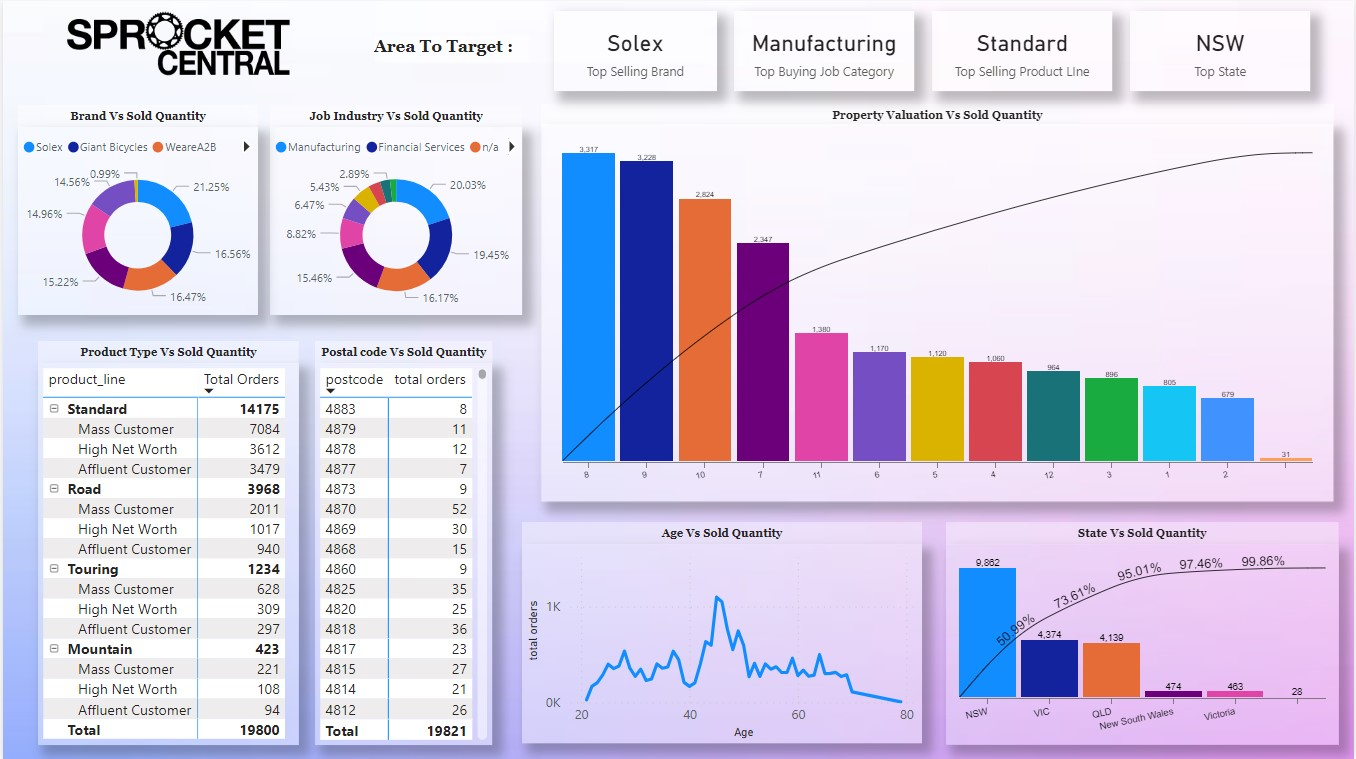

Layout of this report page (visuals, bound fields, positions):
{"tool":"powerbi","page":{"name":"Page 1","canvas":[1280,720],"ordinal":0},"visuals":[{"type":"image","box":[20.9,4.5,296.4,84.5],"z":0},{"type":"paretoEDD8E69761BA4B7BB3AA6D813990D7BF","fields":{"paretoValues":["Measure.total orders"],"paretoCategories":["Customers Address.property_valuation"]},"box":[510,117,750.9,358.2],"z":0,"group":"g1"},{"type":"textbox","box":[510,98,750.9,20.9],"z":1000,"group":"g1"},{"type":"pivotTable","fields":{"Rows":["Transections.product_line","Customers Demographic.wealth_segment"],"Values":["Measure.Product Line Count"]},"box":[32.7,342.7,247.3,361.8],"z":1000},{"type":"donutChart","fields":{"Category":["Transections.brand"],"Y":["Measure.total orders"]},"box":[14.2,118.9,227,178.2],"z":2000},{"type":"pivotTable","fields":{"Rows":["Customers Address.postcode"],"Values":["Measure.total orders"]},"box":[295.5,342.7,168.2,361.8],"z":3000},{"type":"lineChart","fields":{"Y":["Measure.total orders"],"Category":["Customers Demographic.Age"]},"box":[491.8,514.5,379.1,189.1],"z":4000},{"type":"donutChart","fields":{"Y":["Measure.total orders"],"Category":["Customers Demographic.job_industry_category"]},"box":[252.7,118.9,239.4,178.2],"z":5000},{"type":"paretoEDD8E69761BA4B7BB3AA6D813990D7BF","fields":{"paretoValues":["Measure.total orders"],"paretoCategories":["Customers Address.state"]},"box":[893.8,514.3,371.5,189.8],"z":6000},{"type":"textbox","box":[32.7,321.8,247.3,20.9],"z":7000},{"type":"textbox","box":[295.5,321.8,168.2,20.9],"z":8000},{"type":"textbox","box":[14.5,98.2,227.3,20.9],"z":9000},{"type":"textbox","box":[252.7,98.2,239.1,20.9],"z":10000},{"type":"textbox","box":[491.8,493.6,379.1,20.9],"z":11000},{"type":"textbox","box":[893.6,493.6,371.8,20.9],"z":12000},{"type":"group","id":"g1","title":"Group 1","box":[510,98,750.9,377.2],"z":13000},{"type":"textbox","box":[351.8,32.7,148.2,24.5],"z":14000},{"type":"card","fields":{"Values":["Min(Transections.brand)"]},"box":[521.8,9.1,153.6,76.4],"z":15000},{"type":"card","fields":{"Values":["Min(Customers Demographic.job_industry_category)"]},"box":[692.1,9.1,170.9,76.4],"z":16000},{"type":"card","fields":{"Values":["Min(Transections.product_line)"]},"box":[879.7,9.1,170.9,76.4],"z":17000},{"type":"card","fields":{"Values":["Min(Customers Address.state)"]},"box":[1067.3,9.1,170.9,76.4],"z":18000}]}

Visuals, with their boxes in screenshot pixels (x1, y1, x2, y2), scaled from the page's 1280x720 canvas onto the 1356x759 screenshot:
image: [22, 5, 336, 94]
paretoEDD8E69761BA4B7BB3AA6D813990D7BF - Measure.total orders x Customers Address.property_valuation: [540, 123, 1336, 501]
textbox: [540, 103, 1336, 125]
pivotTable - Transections.product_line x Customers Demographic.wealth_segment: [35, 361, 297, 743]
donutChart - Transections.brand x Measure.total orders: [15, 125, 256, 313]
pivotTable - Customers Address.postcode x Measure.total orders: [313, 361, 491, 743]
lineChart - Measure.total orders x Customers Demographic.Age: [521, 542, 923, 742]
donutChart - Measure.total orders x Customers Demographic.job_industry_category: [268, 125, 521, 313]
paretoEDD8E69761BA4B7BB3AA6D813990D7BF - Measure.total orders x Customers Address.state: [947, 542, 1340, 742]
textbox: [35, 339, 297, 361]
textbox: [313, 339, 491, 361]
textbox: [15, 104, 256, 126]
textbox: [268, 104, 521, 126]
textbox: [521, 520, 923, 542]
textbox: [947, 520, 1341, 542]
"Group 1" group: [540, 103, 1336, 501]
textbox: [373, 34, 530, 60]
card - Min(Transections.brand): [553, 10, 716, 90]
card - Min(Customers Demographic.job_industry_category): [733, 10, 914, 90]
card - Min(Transections.product_line): [932, 10, 1113, 90]
card - Min(Customers Address.state): [1131, 10, 1312, 90]
